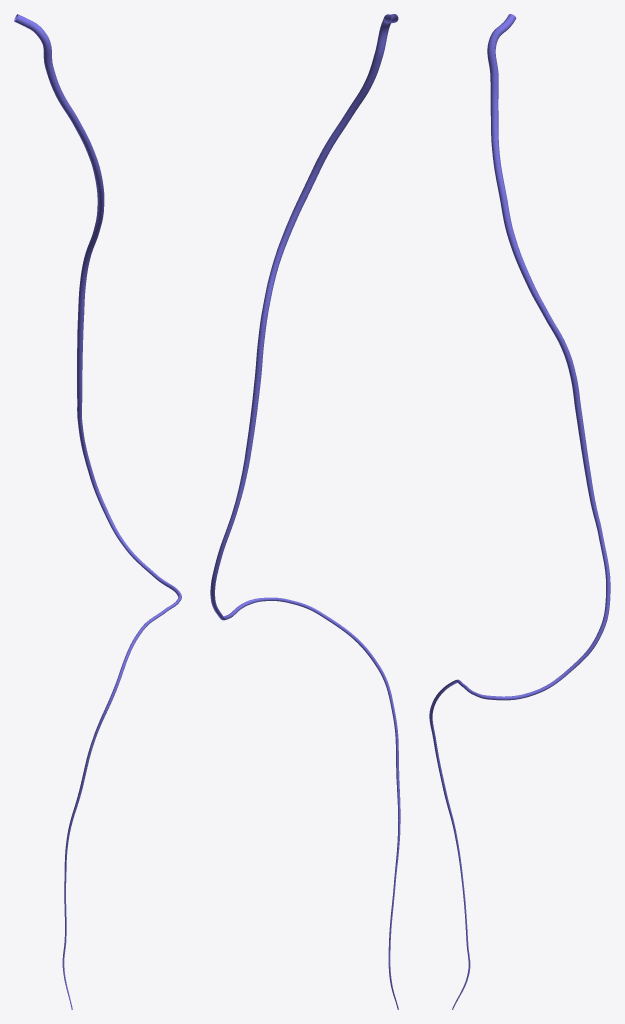
The model's file is Left_testicular_vein.glb.
3 renders of one model, left to right at view 1: azimuth 30°, elevation 25°; view 2: azimuth 150°, elevation 25°; view 3: azimuth 270°, elevation 25°, orthographic. The views are drawn at different scales.
Parts seen in each view (by area): view 1: Left_testicular_vein_BezierCurve.337; view 2: Left_testicular_vein_BezierCurve.337; view 3: Left_testicular_vein_BezierCurve.337.
Boxes of the visible parts, box(x1,y1,x2,y2) form: Left_testicular_vein_BezierCurve.337: box(14, 14, 181, 1009); Left_testicular_vein_BezierCurve.337: box(210, 14, 400, 1009); Left_testicular_vein_BezierCurve.337: box(429, 14, 610, 1009).
Size of the model in its own units: 0.0648 by 0.3865 by 0.0646.
